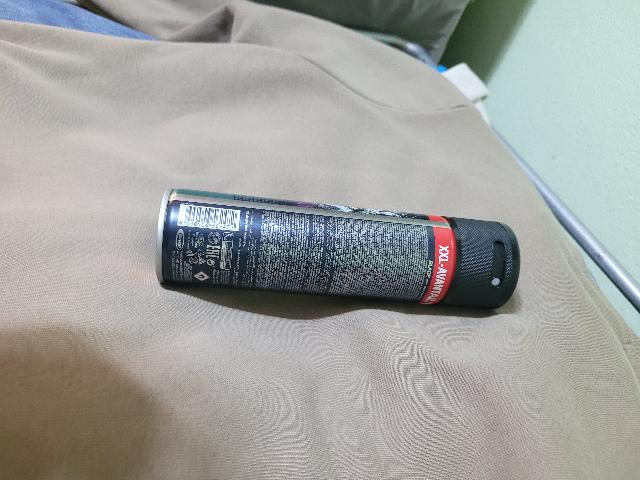Metal: (149, 183, 452, 327)
Plastik: (450, 208, 524, 322)
